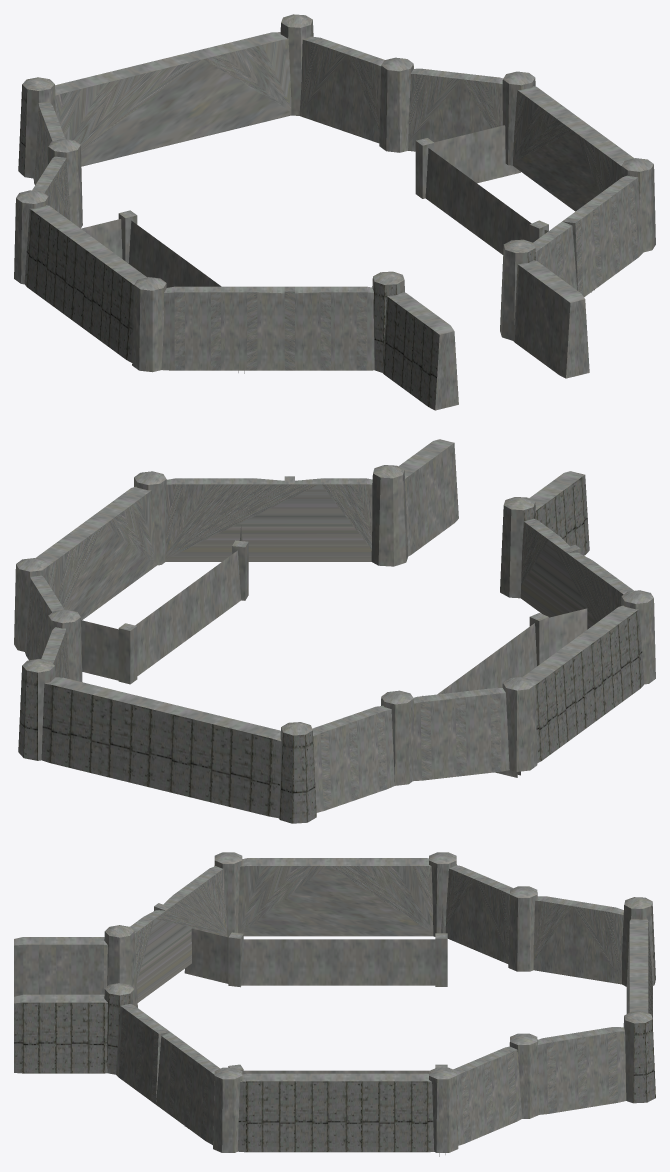
The model's file is poi_all_impl_corral_64x64_s01_l1.fbx.
The picture shows the model from 3 angles, top to bottom: view 1: azimuth 30°, elevation 25°; view 2: azimuth 150°, elevation 25°; view 3: azimuth 270°, elevation 25°; orthographic projection. The views are drawn at different scales.
Visible parts, largest first — view 1: mesh_node; view 2: mesh_node; view 3: mesh_node.
Boxes of the visible parts, bbox=[...] form: mesh_node: bbox=[14, 14, 655, 410]; mesh_node: bbox=[14, 439, 655, 823]; mesh_node: bbox=[14, 852, 655, 1156].
Size of the model in its own units: 43.48 by 8.4 by 51.64.
